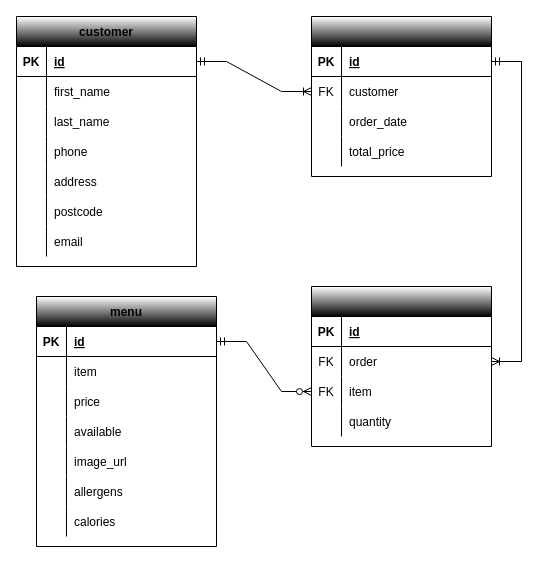
The diagram is 538 pixels wide and 563 high, and some of its shapes have lost their labels. The box of each missing label's shape, as (x1, y1, x2, y2) in pixels:
order_items: (310, 286, 492, 446)
orders: (310, 16, 492, 176)
